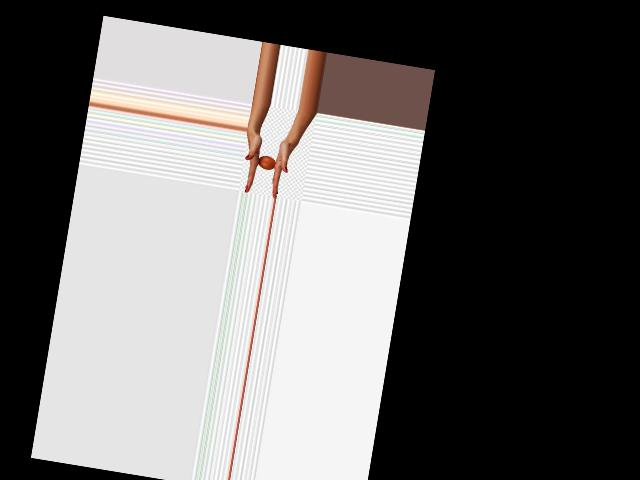egg: (258, 154, 276, 170)
